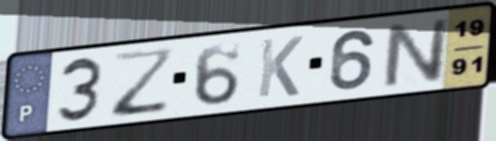3: (54, 54, 105, 125)
6: (193, 41, 243, 108), (328, 27, 378, 92)
K: (254, 34, 306, 101)
N: (381, 16, 449, 91)
Z: (111, 44, 179, 120)
